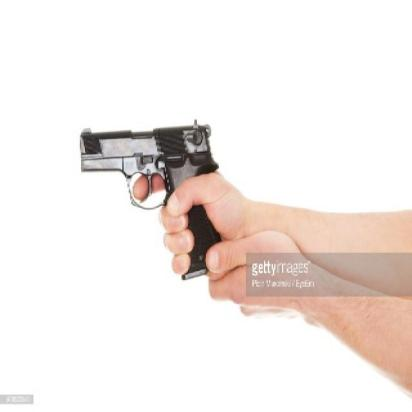Gun: (76, 123, 219, 282)
